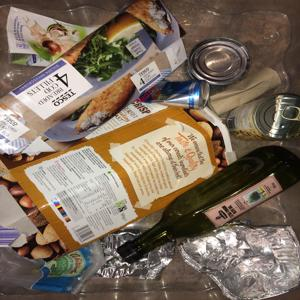cardboard: (1, 109, 223, 242), (4, 1, 189, 118), (11, 11, 96, 72), (1, 242, 100, 292)
glass: (117, 144, 300, 255)
metal: (176, 219, 298, 296), (188, 36, 251, 84), (231, 98, 299, 140), (101, 232, 166, 274), (141, 82, 211, 111)
